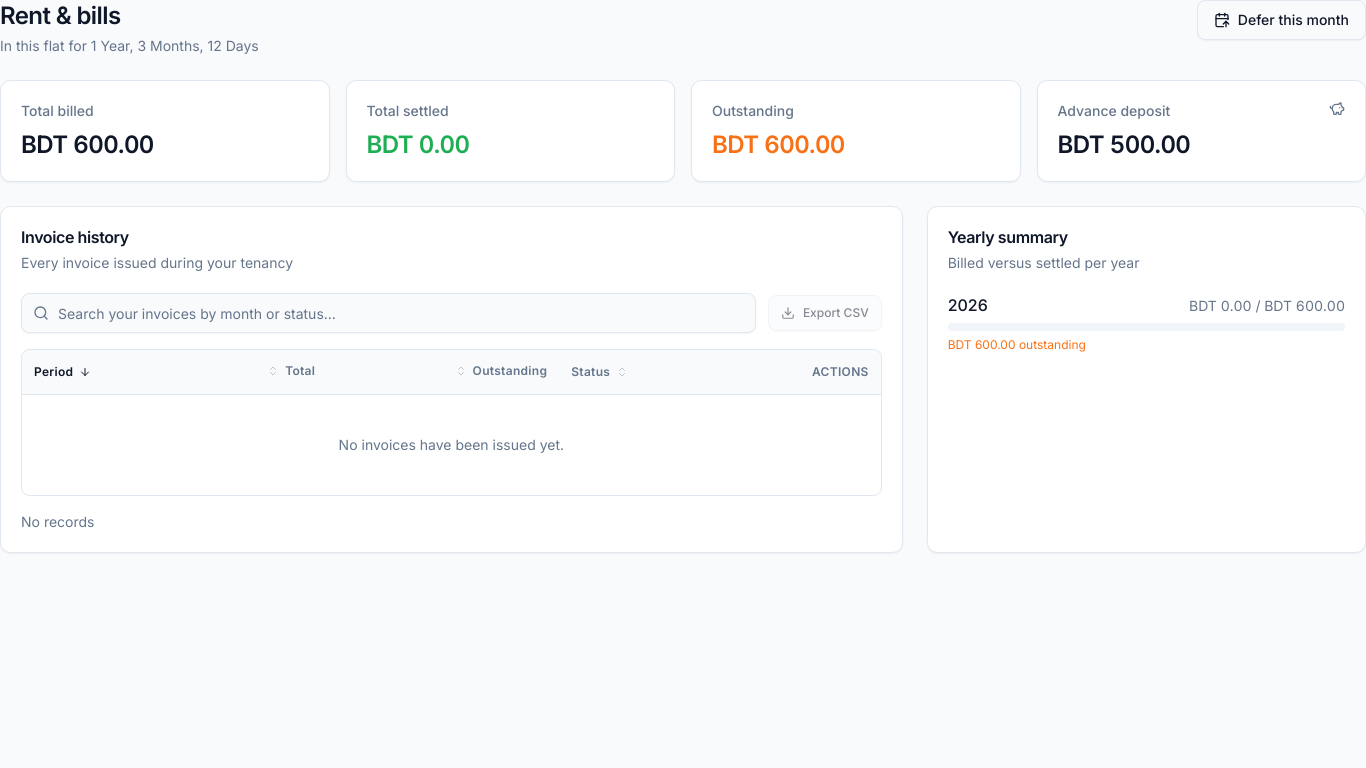
RentPage — deferral flow (QA matrix 7.2) › previews a pure rollover leaving the advance untouched
Click the button "Defer this month": x=1281, y=20 [1197,0,1365,40]
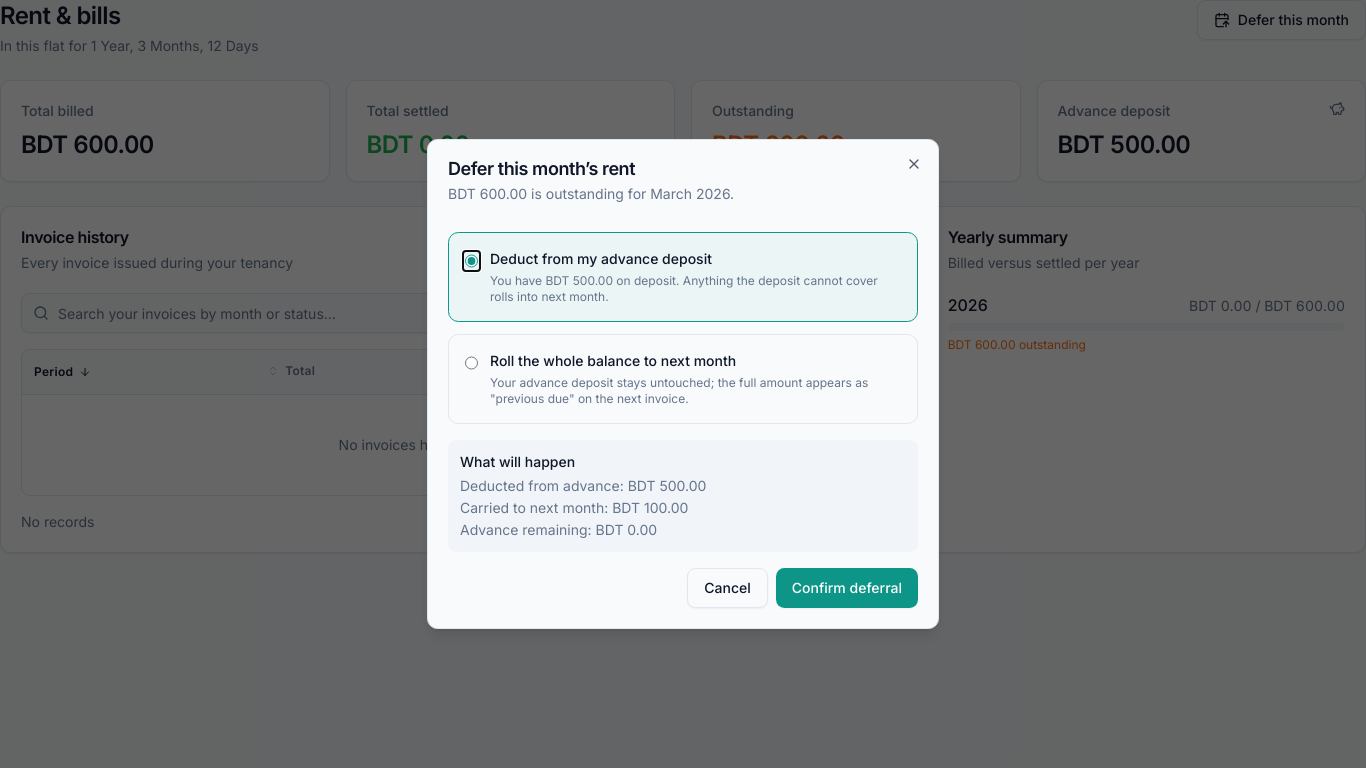
Click the radio button labelled "Roll the whole balance": x=472, y=363 [465,355,478,371]
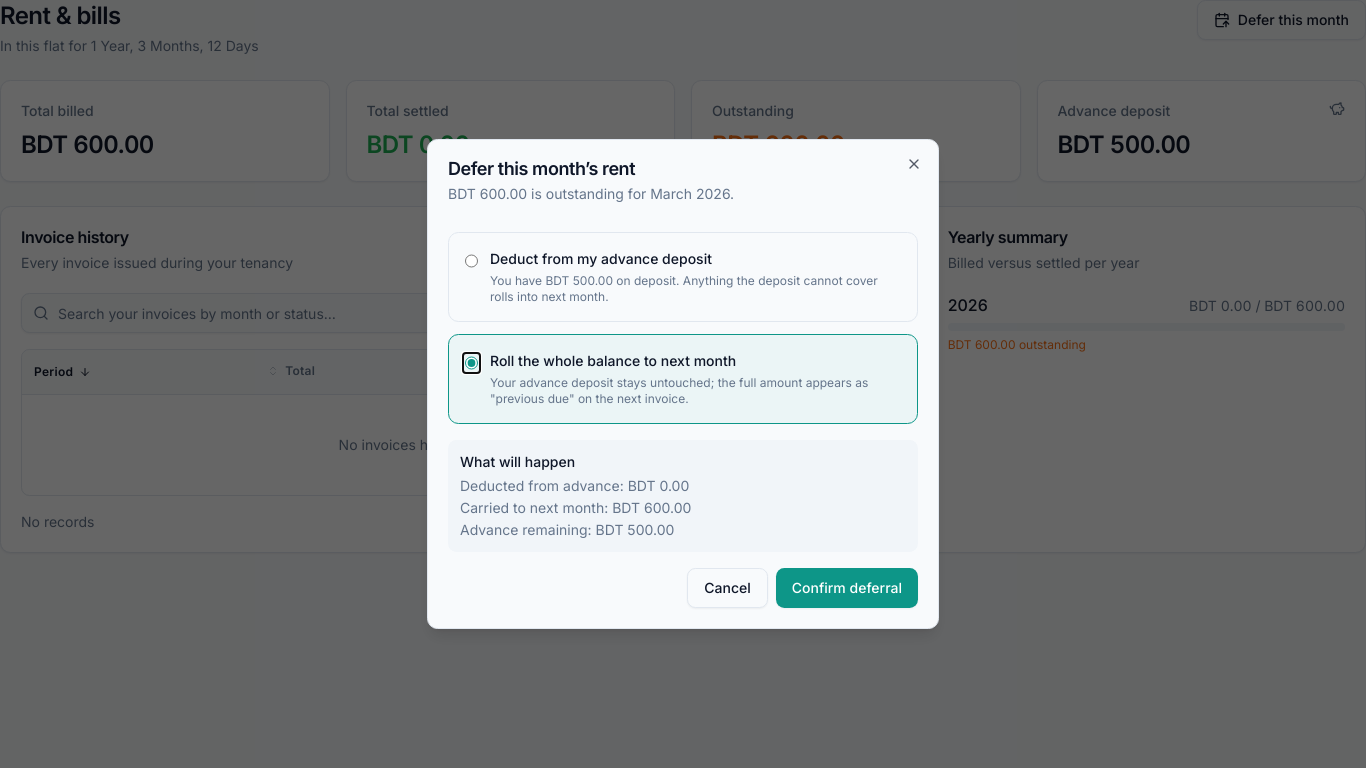
Check: the list item "Deducted from advance: BDT 0.00" is shown, box [460,477,689,494]
Check: the list item "Carried to next month: BDT 600.00" is shown, box [460,499,691,516]
Check: the list item "Advance remaining: BDT 500.00" is shown, box [460,521,674,538]
